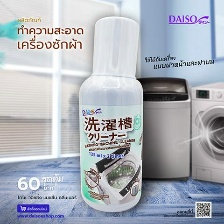cleaning_solution: (74, 12, 146, 215)
